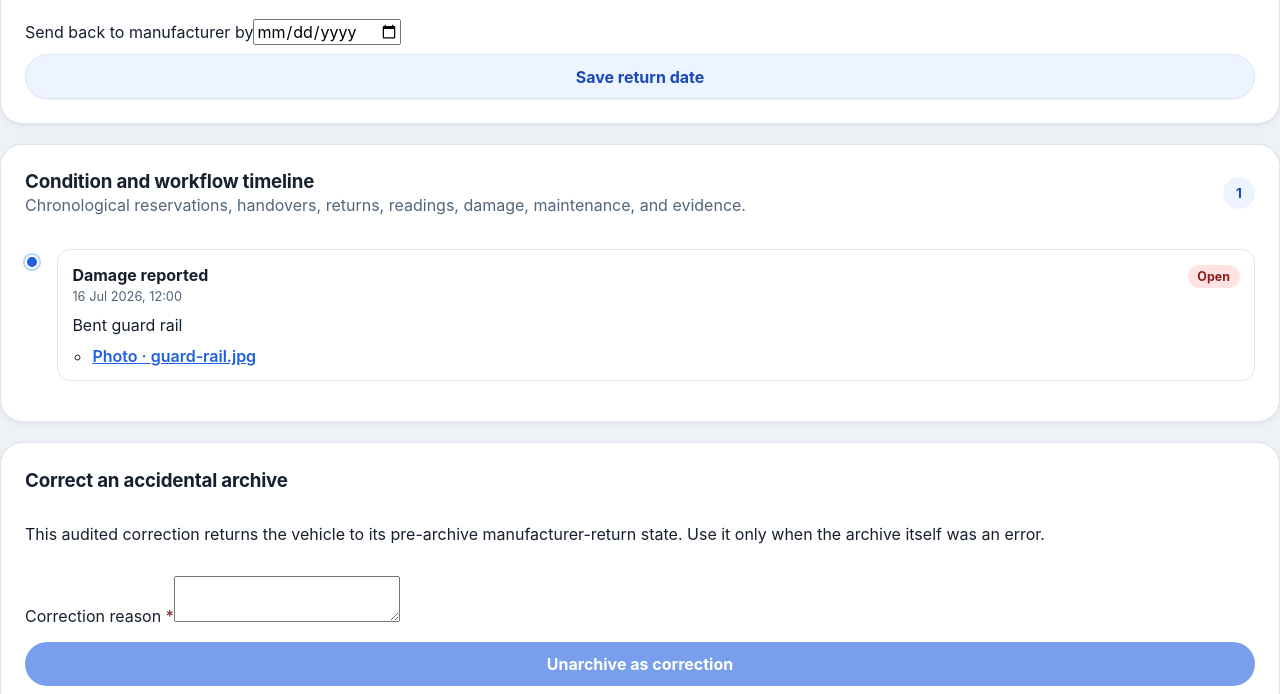
Test: VehicleDetailPage hardening › requires a correction reason before audited unarchive
(page scrolled)
expect the button "Unarchive as correction" is disabled: met, box [25,642,1255,686]
In the text box labelled "Correction reason": point(287, 599) [174,576,400,622], type "Archived wrong asset"
(page scrolled)
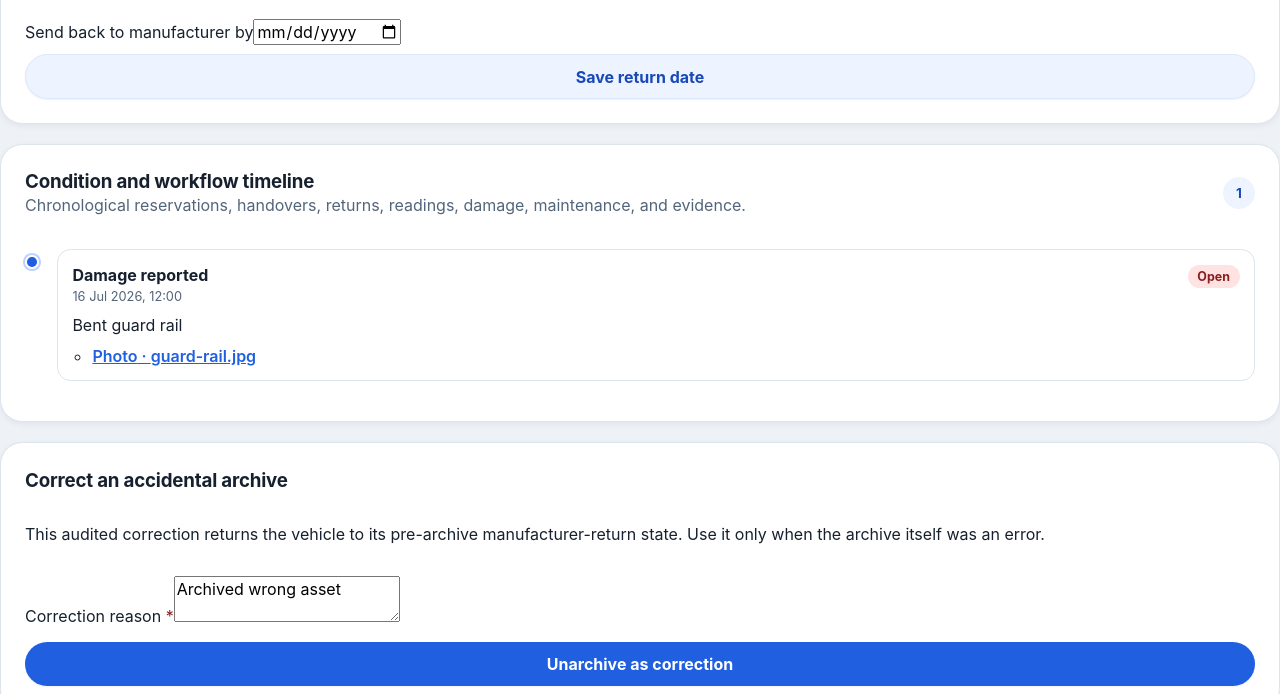
Click the button "Unarchive as correction": point(640, 664) [25,642,1255,686]
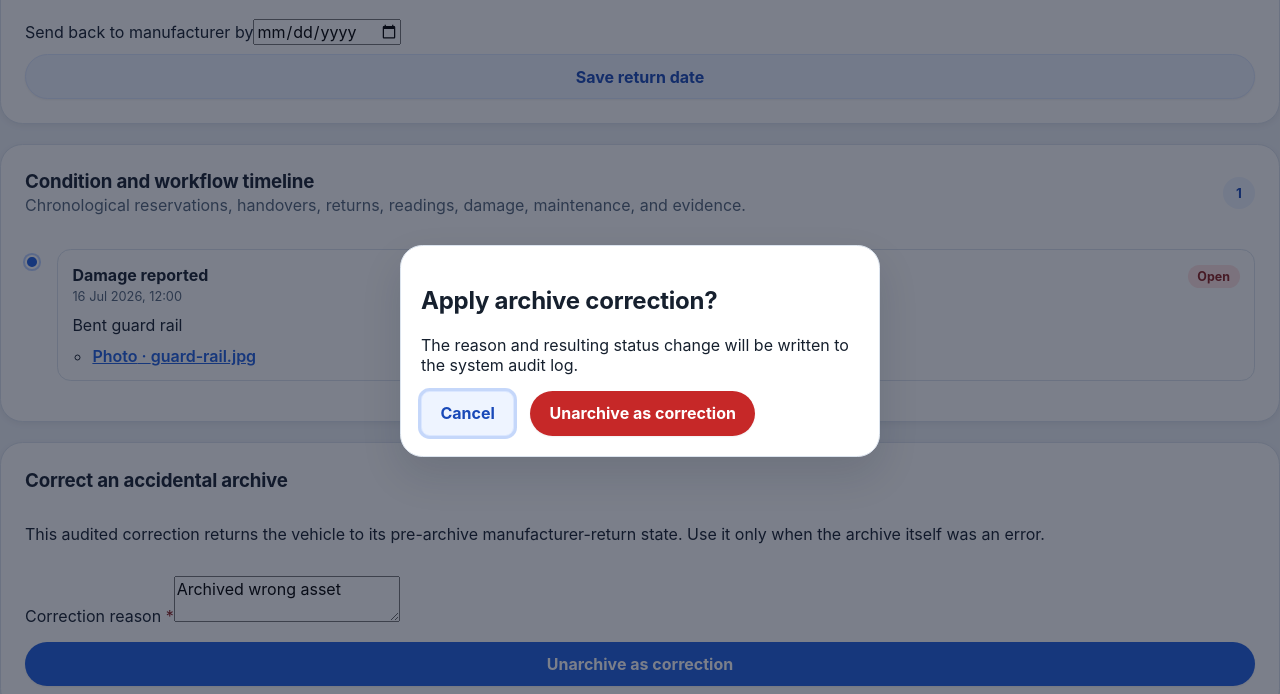
Click the button "Unarchive as correction": point(643, 413) [530,391,755,436]
(page scrolled)
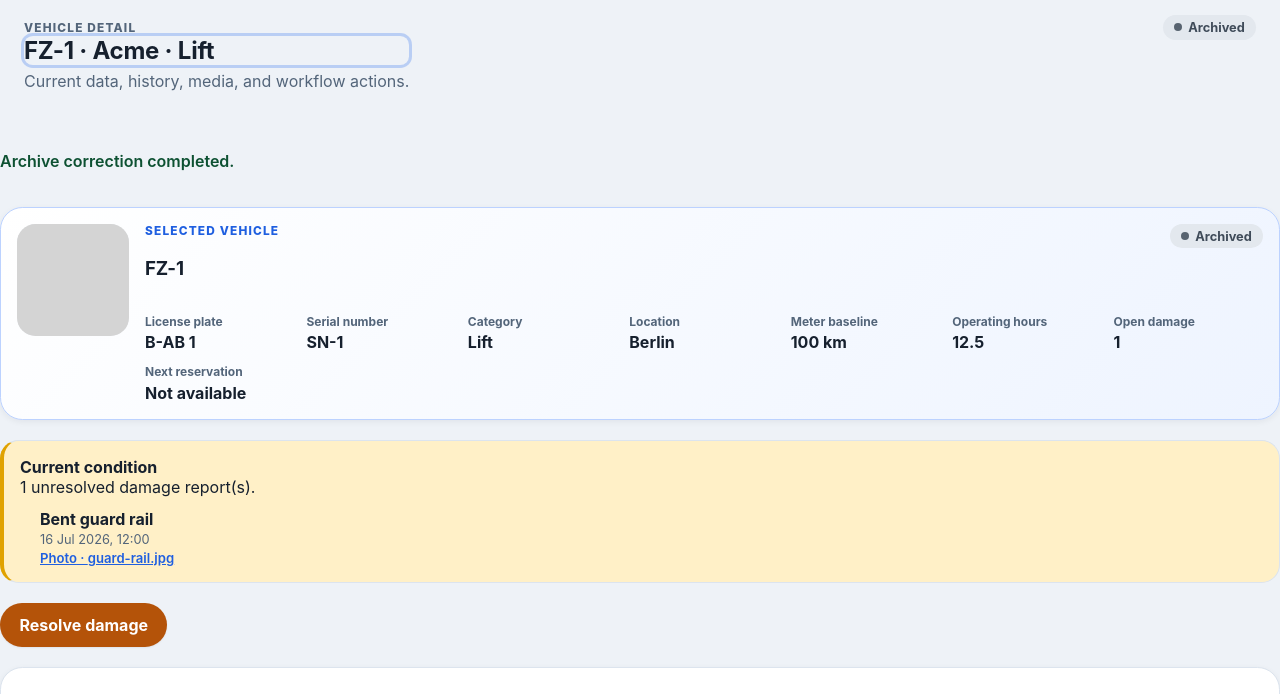
expect the text "Archive correction completed." is shown: met, box [0,151,234,171]
